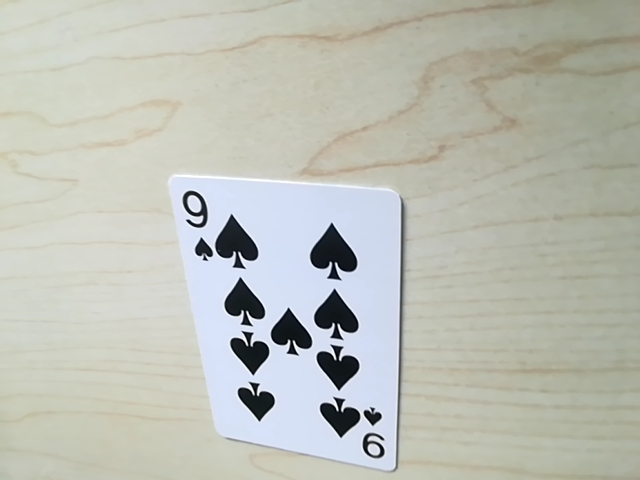ht 9: (175, 183, 220, 262), (354, 409, 392, 471)
